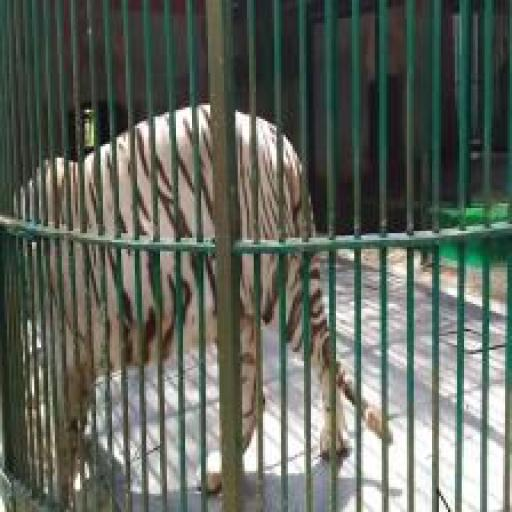Tiger: (0, 98, 413, 512)
